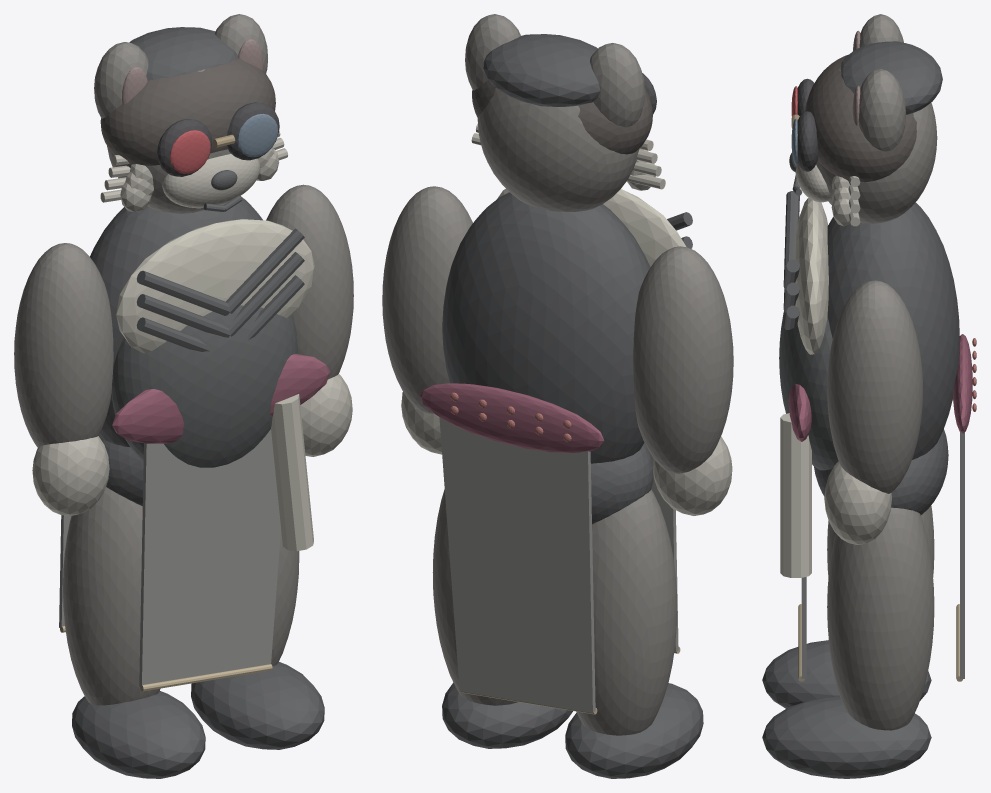
File: profound_prototype (3).glb
3 renders of one model, left to right at view 1: azimuth 30°, elevation 25°; view 2: azimuth 150°, elevation 25°; view 3: azimuth 270°, elevation 25°, orthographic. The views are drawn at different scales.
Parts seen in each view (by area): view 1: front_skirt_047, belly_clothing_003, arm_-1_006, leg_-1_004, white_chest_041, helmet_shell_062, arm_1_012, paw_-1_005, paw_1_011, torso_001, burgundy_sash_045, hand_-1_007 (+20 smaller); view 2: torso_001, rear_skirt_049, arm_-1_006, leg_-1_004, arm_1_012, head_016, rear_sash_051, paw_-1_005, dark_crown_032, paw_1_011, hand_-1_007, ear_-1_008 (+7 smaller); view 3: leg_1_010, arm_1_012, torso_001, paw_1_011, helmet_shell_062, sash_end_046, head_016, belly_clothing_003, white_chest_041, dark_crown_032, hand_1_013, paw_-1_005 (+13 smaller).
Boxes of the visible parts, box(x1,y1,x2,y2) form: front_skirt_047: box(139, 429, 280, 687); belly_clothing_003: box(111, 305, 297, 467); arm_-1_006: box(14, 243, 113, 447); leg_-1_004: box(63, 487, 160, 705); white_chest_041: box(116, 219, 314, 353); helmet_shell_062: box(100, 58, 275, 165); arm_1_012: box(266, 184, 353, 379); paw_-1_005: box(72, 691, 205, 778); paw_1_011: box(191, 662, 324, 749); torso_001: box(90, 196, 262, 446); burgundy_sash_045: box(112, 354, 330, 443); hand_-1_007: box(32, 436, 109, 516); torso_001: box(442, 192, 650, 463); rear_skirt_049: box(439, 417, 595, 712); arm_-1_006: box(633, 246, 733, 473); leg_-1_004: box(576, 489, 677, 735); arm_1_012: box(382, 186, 472, 413); head_016: box(477, 87, 639, 211); rear_sash_051: box(420, 383, 604, 452); paw_-1_005: box(565, 683, 703, 778); dark_crown_032: box(483, 34, 600, 106); paw_1_011: box(442, 682, 572, 748); hand_-1_007: box(652, 436, 732, 515); ear_-1_008: box(590, 43, 644, 127); leg_1_010: box(827, 507, 934, 730); arm_1_012: box(827, 280, 922, 493); torso_001: box(827, 202, 959, 459); paw_1_011: box(762, 696, 931, 778); helmet_shell_062: box(805, 54, 916, 182); sash_end_046: box(780, 413, 811, 577); head_016: box(816, 67, 937, 223); belly_clothing_003: box(779, 311, 838, 470); white_chest_041: box(794, 198, 828, 354); dark_crown_032: box(840, 41, 942, 114); hand_1_013: box(824, 461, 891, 544); paw_-1_005: box(762, 640, 931, 708).
Size of the model in its own units: 0.66 by 1.37 by 0.38.
